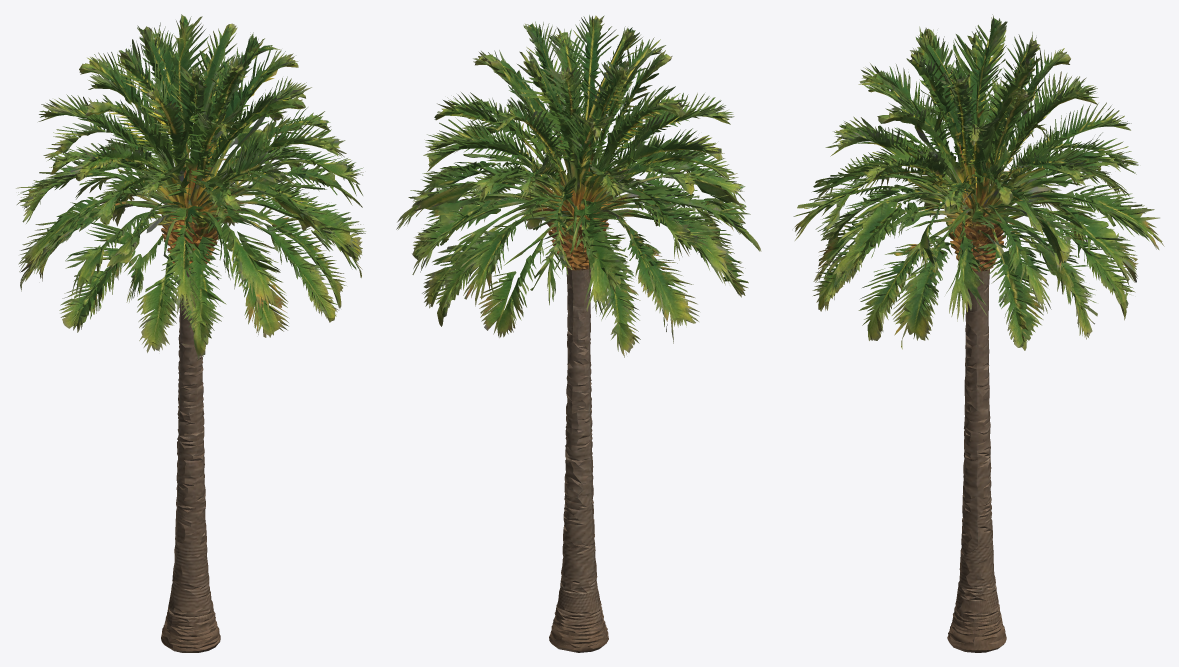
The model's file is palmeira_orla_bc.glb.
The picture shows the model from 3 angles, left to right: view 1: azimuth 30°, elevation 25°; view 2: azimuth 150°, elevation 25°; view 3: azimuth 270°, elevation 25°; orthographic projection.
Size of the model in its own units: 1.07 by 1.9 by 1.08.
Materials: 1 (1 with a texture image).
